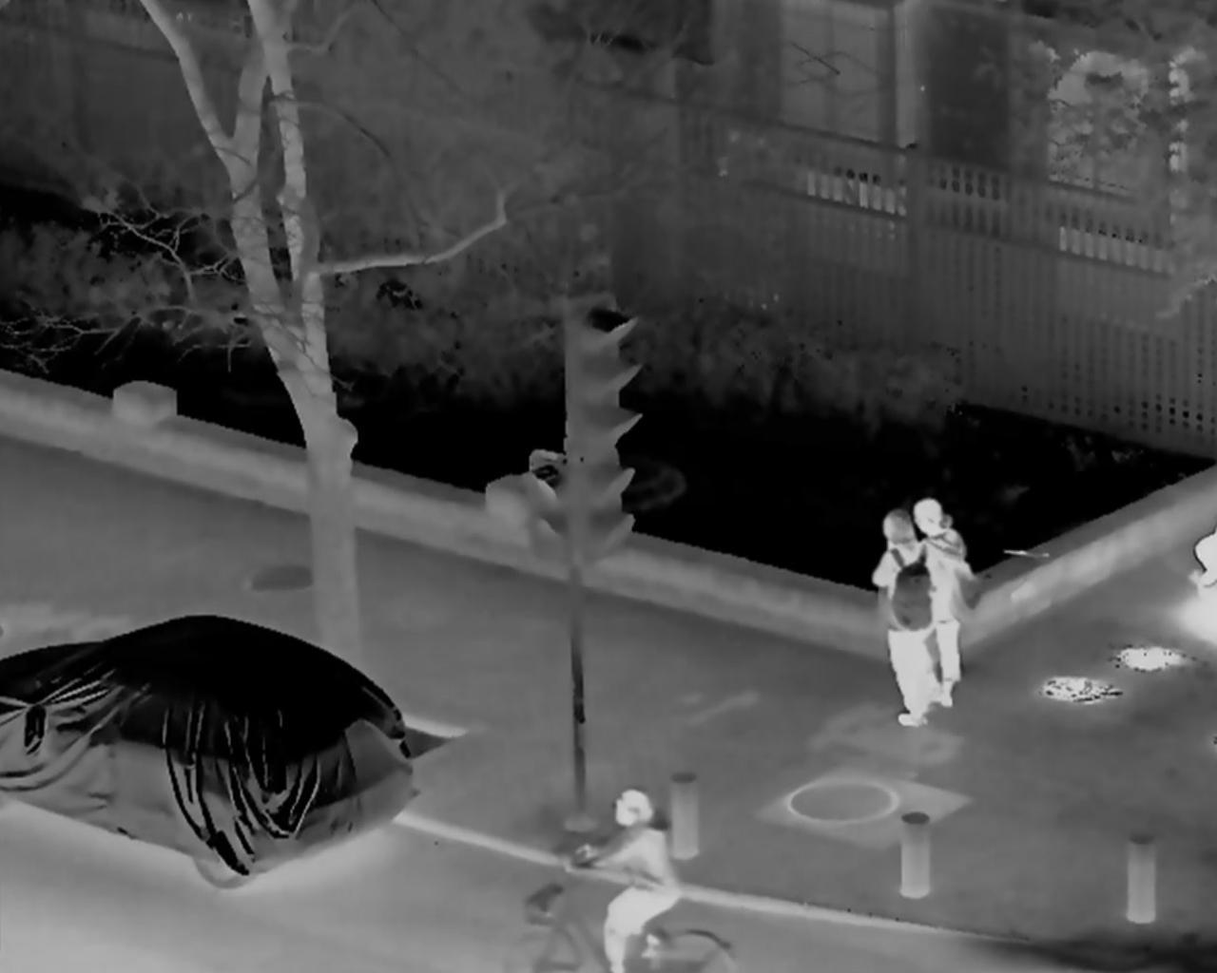person: (570, 784, 676, 973), (872, 512, 940, 730), (906, 499, 976, 709)
